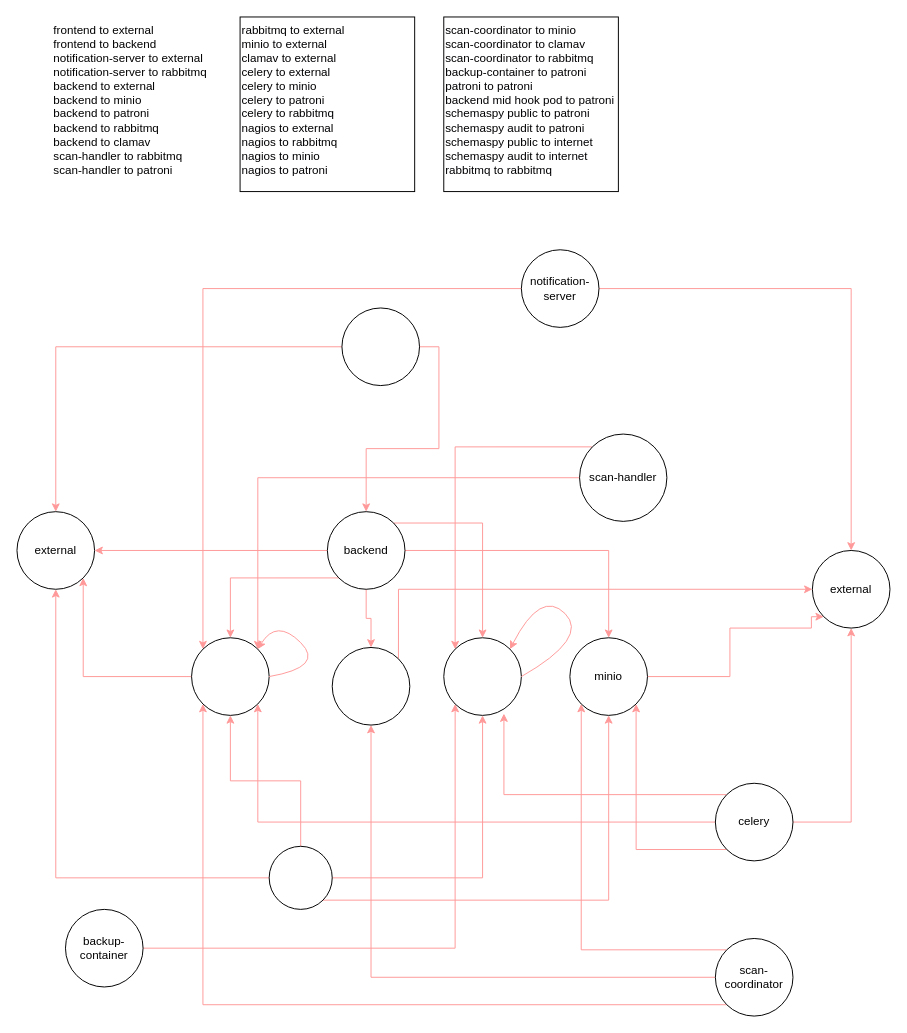
The diagram is 907 pixels wide and 1033 high, and some of its shapes have lost their labels. Here are the shapes that lost their labels. From the top down, the box of each, then its label:
(341, 307, 420, 386): frontend
(191, 637, 269, 715): rabbitmq
(331, 647, 410, 725): clamav
(443, 637, 521, 715): patroni
(268, 845, 332, 909): nagios
